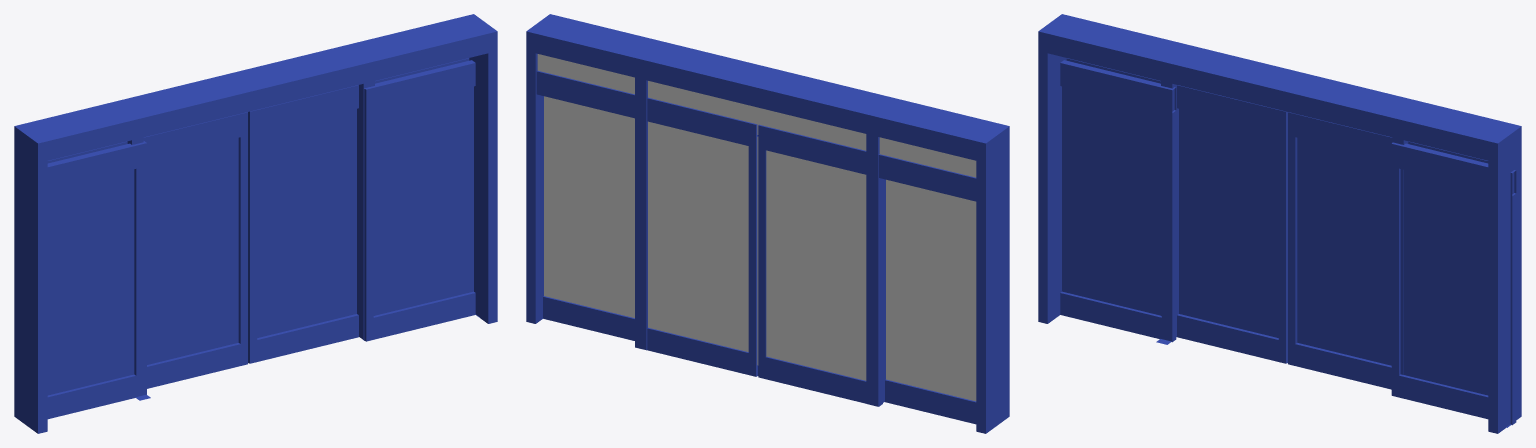
Rendered from puerta del super mercado.fbx.
The picture shows the model from 3 angles, left to right: view 1: azimuth 30°, elevation 25°; view 2: azimuth 150°, elevation 25°; view 3: azimuth 330°, elevation 25°; orthographic projection.
Parts seen in each view (by area): view 1: PUERTA FALSA; view 2: PUERTA FALSA; view 3: PUERTA FALSA.
Boxes of the visible parts, x1,y1,x2,y2 form: PUERTA FALSA: [14, 14, 497, 433]; PUERTA FALSA: [526, 14, 1009, 433]; PUERTA FALSA: [1038, 14, 1521, 433].
Bounding box in the file's own units: 444 × 267 × 39.64.
